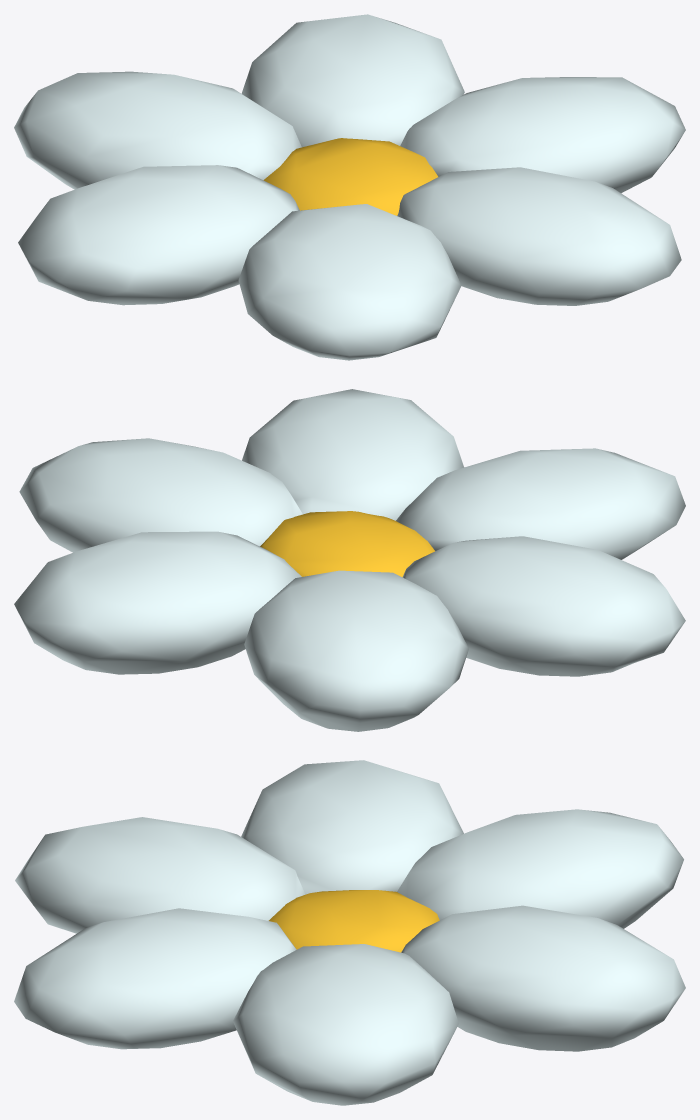
The model's file is Flover_01.fbx.
3 renders of one model, top to bottom at view 1: azimuth 30°, elevation 25°; view 2: azimuth 150°, elevation 25°; view 3: azimuth 270°, elevation 25°, orthographic.
Parts seen in each view (by area): view 1: Flover_01; view 2: Flover_01; view 3: Flover_01.
Part boxes in pixels (left/top/right/bottom): Flover_01: left=14, top=14, right=685, bottom=360; Flover_01: left=14, top=389, right=685, bottom=731; Flover_01: left=14, top=760, right=685, bottom=1105.
Bounding box in the file's own units: 21.69 × 2.72 × 19.44.
